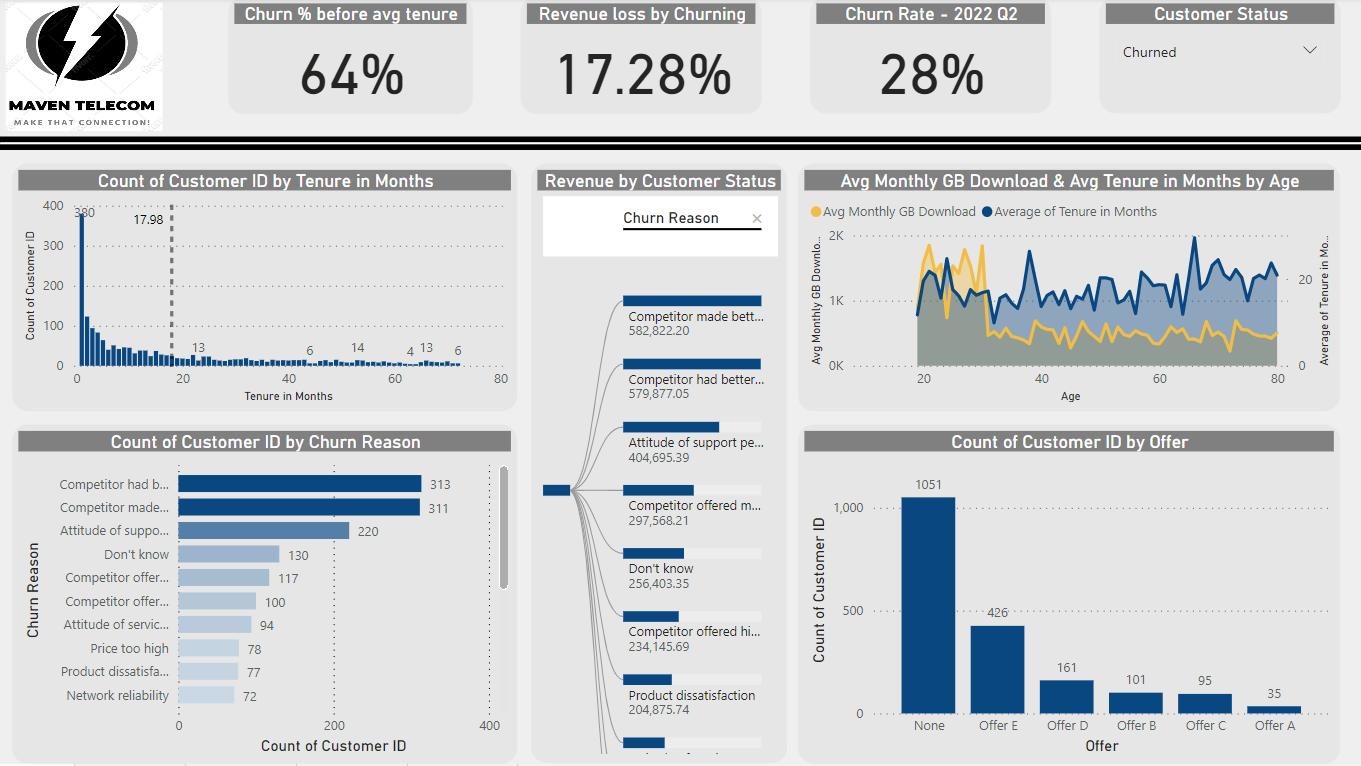

The dashboard page shown, as its layout file describes it:
{"tool":"powerbi","page":{"name":"Maven Telecom","canvas":[1280,720],"ordinal":0},"visuals":[{"type":"slicer","title":"Customer status","fields":{"Values":["Customer.Customer Status"]},"box":[1032.4,0,226.5,109.3],"z":0},{"type":"columnChart","fields":{"Category":["Customer.Tenure in Months"],"Y":["CountNonNull(Customer.Customer ID)"]},"box":[10.9,156.2,474.8,232.7],"z":1000},{"type":"card","title":"Churn % before avg tenure","fields":{"Values":["Customer.CustChurn_below_avgTenure"]},"box":[214.2,0,229.7,109.9],"z":2000},{"type":"card","title":"Revenue loss by churning","fields":{"Values":["Customer.Churn revenue"]},"box":[488.9,0,226.8,109.9],"z":3000},{"type":"image","box":[0,0,157.7,131.2],"z":4000},{"type":"barChart","fields":{"Category":["Customer.Churn Reason"],"Y":["Count(Customer.Customer ID)"]},"box":[11.3,401.6,474.8,318.4],"z":5000},{"type":"card","title":"Churn rate - 2022 Q2","fields":{"Values":["Customer.Churn_Rate"]},"box":[760.8,0,226.5,109.3],"z":6000},{"type":"columnChart","fields":{"Category":["Customer.Offer"],"Y":["Count(Customer.Customer ID)"]},"box":[749.7,401.4,509.2,318.6],"z":7000},{"type":"decompositionTreeVisual","title":"Revenue by Customer Status","fields":{"Analyze":["Sum(Customer.Total Revenue)"],"ExplainBy":["Customer.Churn Reason"]},"box":[498.8,156.4,240.9,563.6],"z":8000},{"type":"shape","box":[0,131.2,1279.1,12.5],"z":9000},{"type":"areaChart","title":"Avg Monthly GB Download & Avg Tenure in Months by Age","fields":{"Y2":["Avg(Customer.Tenure in Months)"],"Category":["Customer.Age"],"Y":["Sum(Customer.Avg Monthly GB Download)"]},"box":[749.7,156.2,509.2,232.7],"z":10000}]}

Visuals, with their boxes in screenshot pixels (x1, y1, x2, y2), scaled from the page's 1280x720 canvas onto the 1361x766 screenshot:
"Customer status" slicer: [1098, 0, 1339, 116]
columnChart - Customer.Tenure in Months x CountNonNull(Customer.Customer ID): [12, 166, 516, 414]
"Churn % before avg tenure" card: [228, 0, 472, 117]
"Revenue loss by churning" card: [520, 0, 761, 117]
image: [0, 0, 168, 140]
barChart - Customer.Churn Reason x Count(Customer.Customer ID): [12, 427, 517, 765]
"Churn rate - 2022 Q2" card: [809, 0, 1050, 116]
columnChart - Customer.Offer x Count(Customer.Customer ID): [797, 427, 1339, 765]
"Revenue by Customer Status" decompositionTreeVisual: [530, 166, 787, 765]
shape: [0, 140, 1360, 153]
"Avg Monthly GB Download & Avg Tenure in Months by Age" areaChart: [797, 166, 1339, 414]
